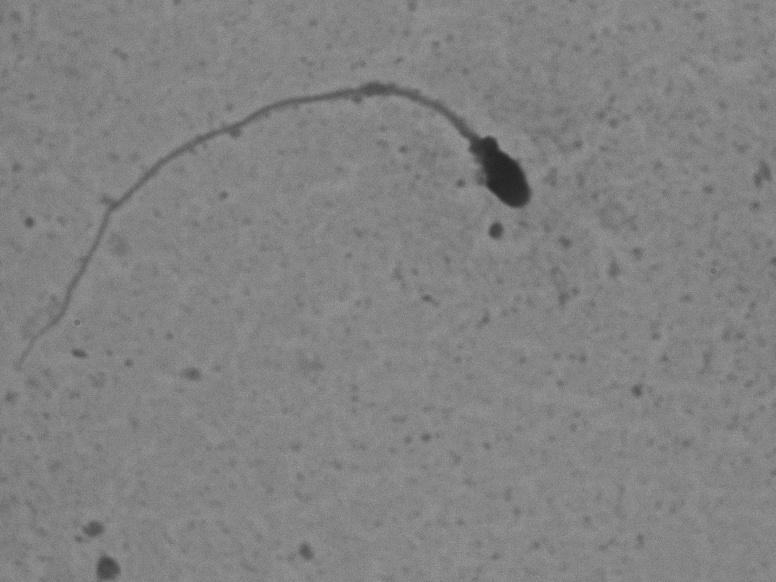Abnormal: (9, 55, 590, 389)
